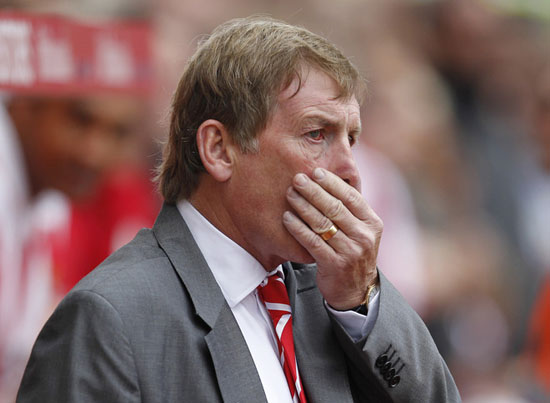face: (241, 69, 365, 267)
